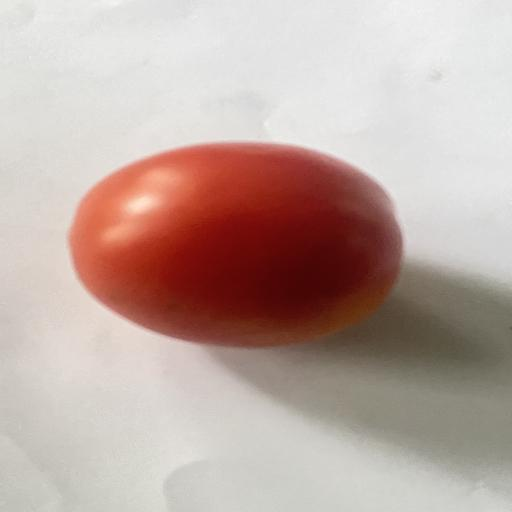ripe: (69, 142, 403, 347)
